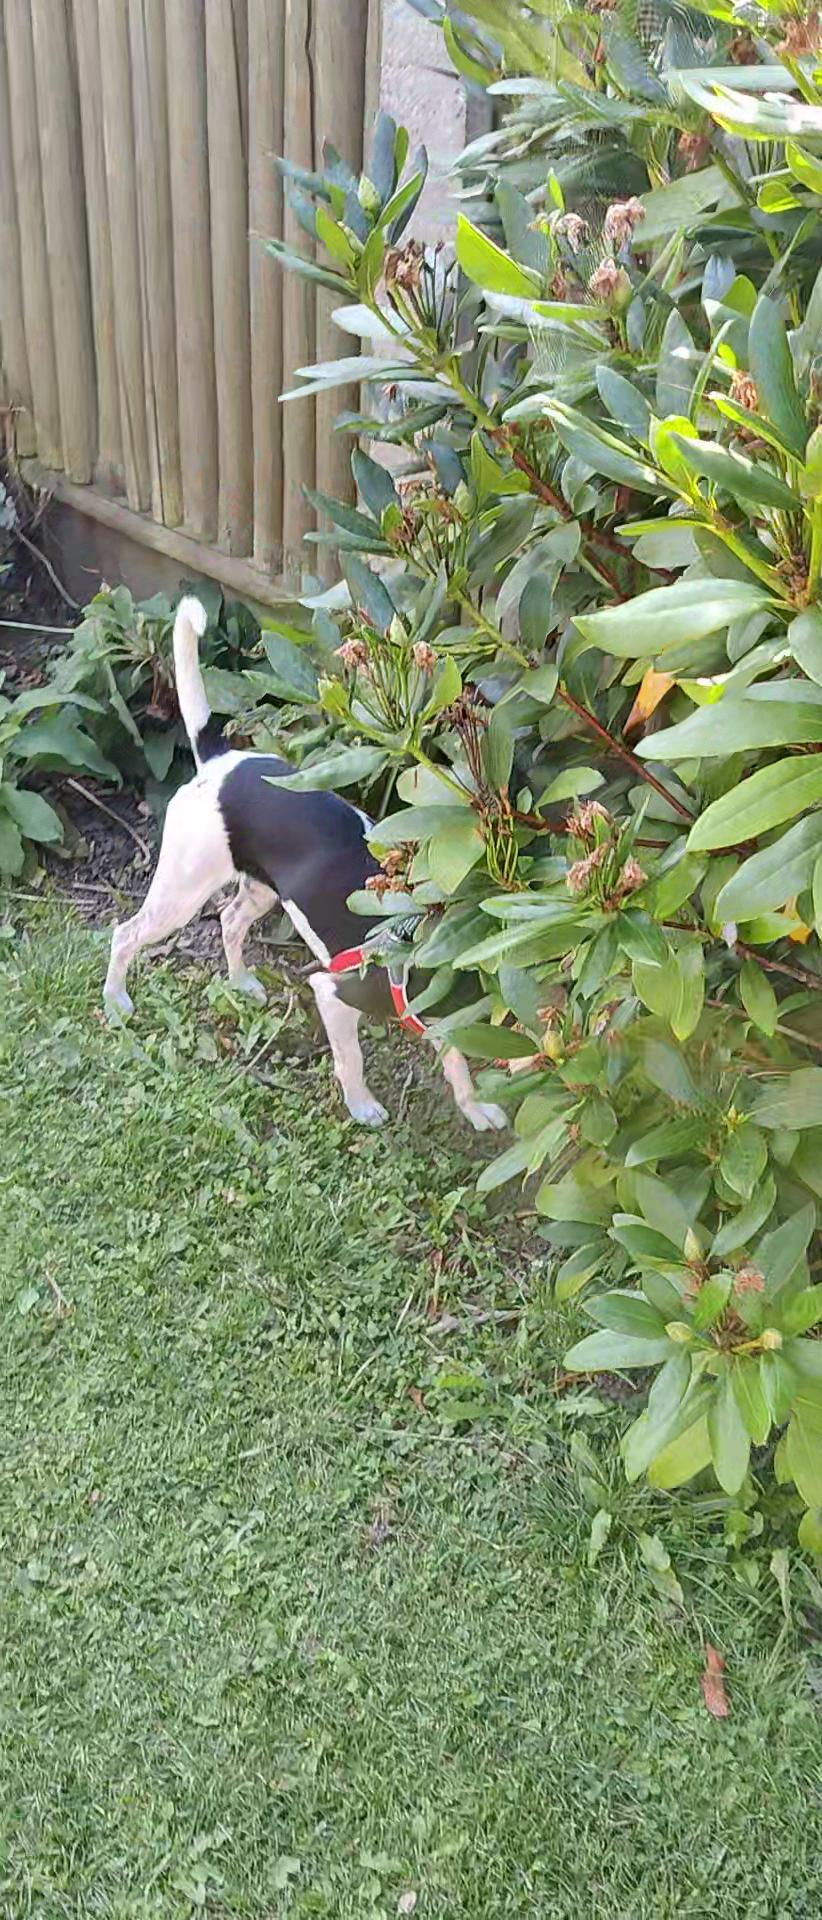Dog: (75, 577, 538, 1139)
